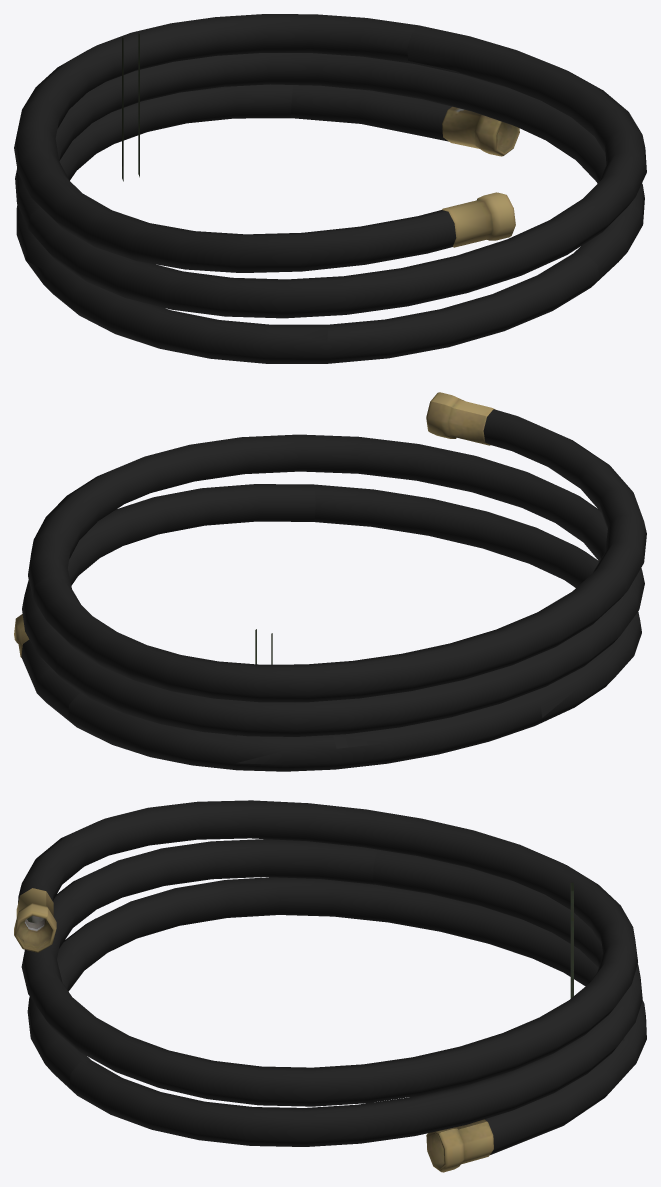
Rendered from washer_hose.obj.
3 renders of one model, top to bottom at view 1: azimuth 30°, elevation 25°; view 2: azimuth 150°, elevation 25°; view 3: azimuth 270°, elevation 25°, orthographic. The views are drawn at different scales.
Visible parts, largest first — view 1: Model001_4_hose_1_0_0, Model001_4_hose ends_1_0_0; view 2: Model001_4_hose_1_0_0, Model001_4_hose ends_1_0_0; view 3: Model001_4_hose_1_0_0, Model001_4_hose ends_1_0_0.
Boxes of the visible parts, x1=… form: Model001_4_hose_1_0_0: x1=14, y1=14, x2=646, y2=363; Model001_4_hose ends_1_0_0: x1=122, y1=33, x2=519, y2=247; Model001_4_hose_1_0_0: x1=21, y1=409, x2=646, y2=771; Model001_4_hose ends_1_0_0: x1=14, y1=392, x2=495, y2=664; Model001_4_hose_1_0_0: x1=18, y1=800, x2=646, y2=1154; Model001_4_hose ends_1_0_0: x1=14, y1=882, x2=573, y2=1172.
Bounding box in the file's own units: 0.6181 × 0.1759 × 0.6291.
